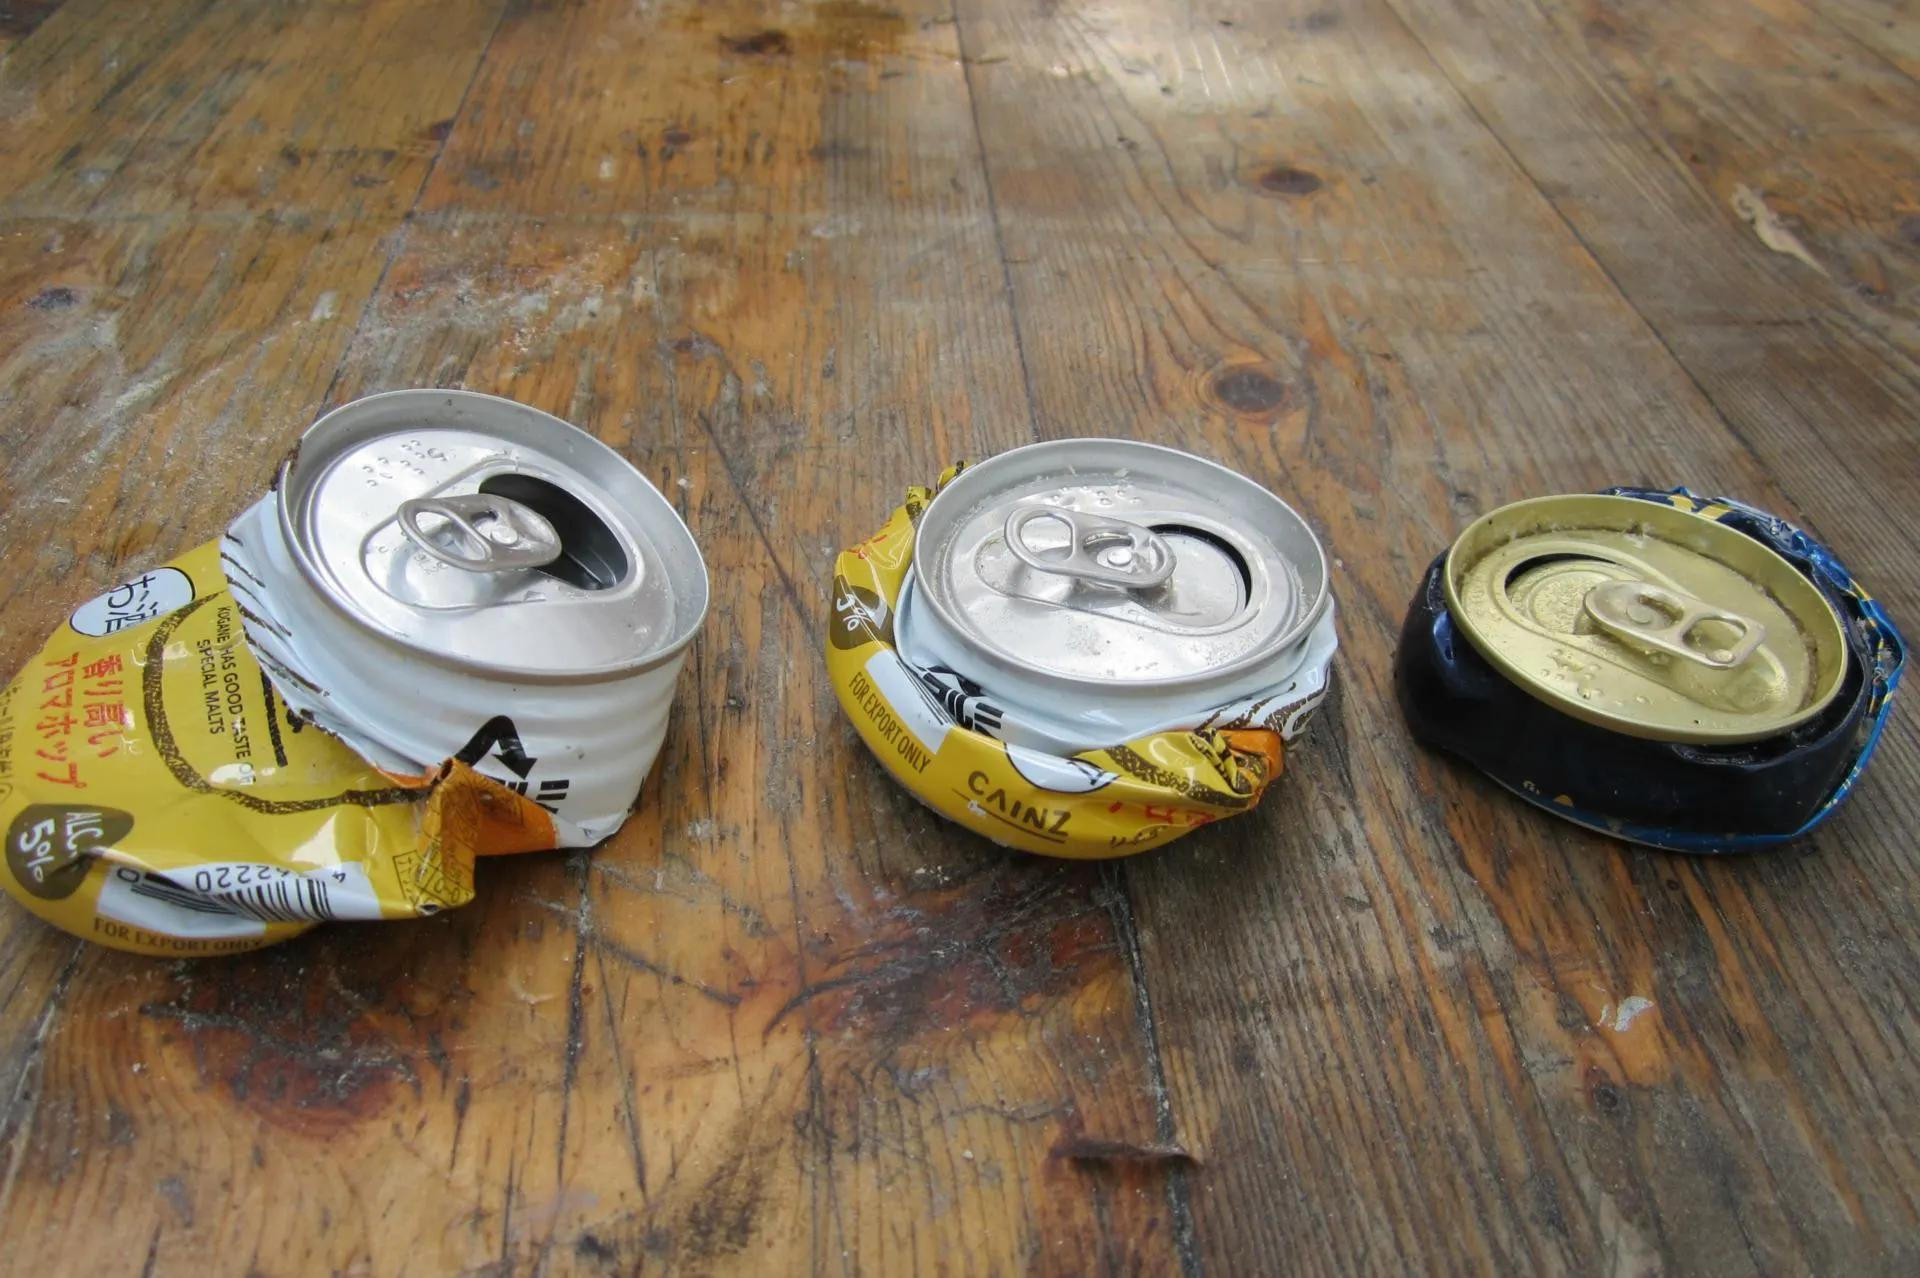metal: (13, 399, 718, 957), (807, 392, 1349, 881)
